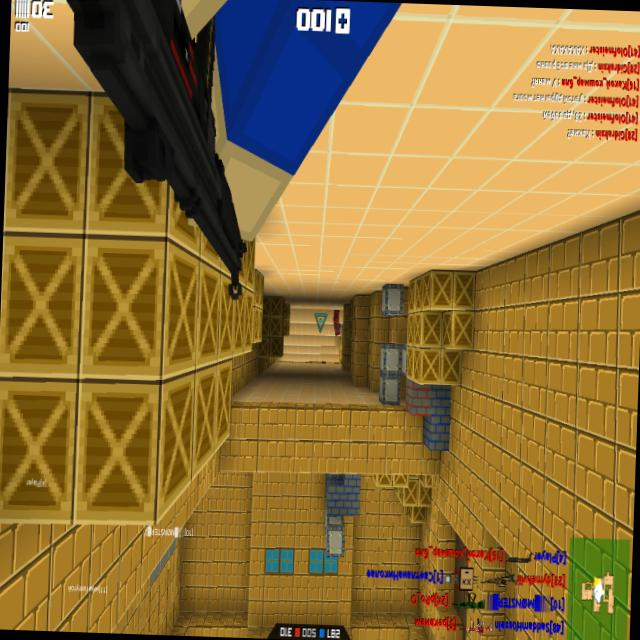enemy: (332, 309, 341, 336)
